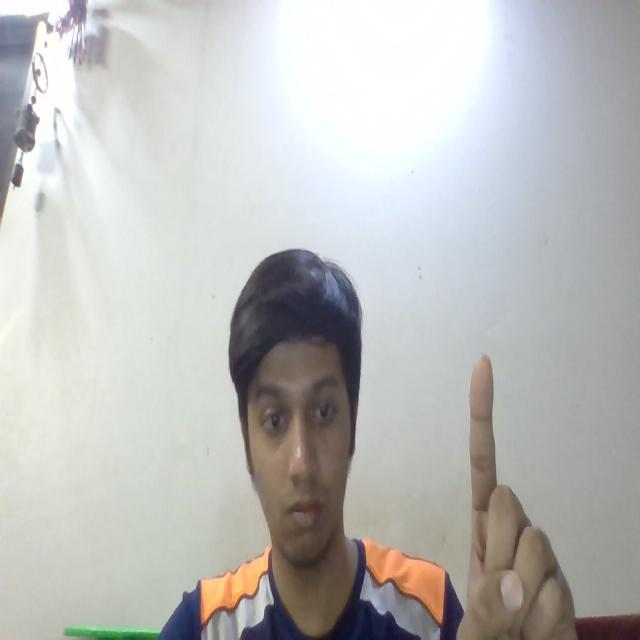Z: (445, 307, 601, 640)
